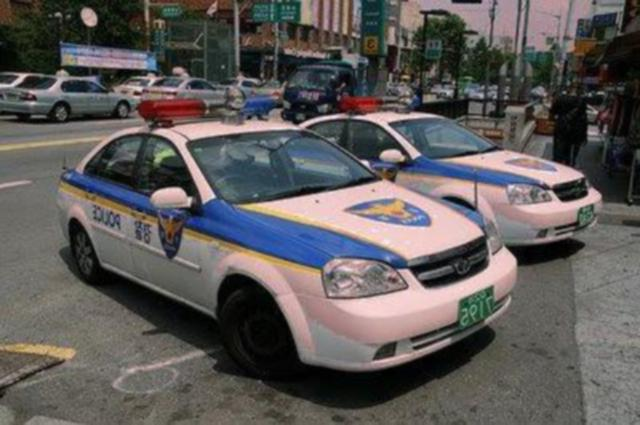police: (59, 98, 518, 378), (304, 94, 603, 250)
